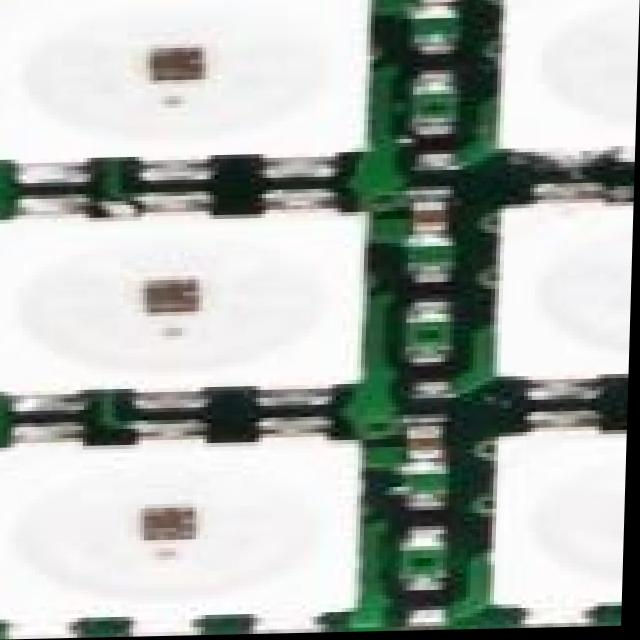LED: (0, 429, 380, 628), (0, 207, 369, 392), (4, 0, 384, 156), (495, 189, 635, 375), (489, 440, 630, 613), (500, 0, 640, 147)
capacitor: (409, 416, 444, 461), (414, 204, 457, 237), (404, 0, 460, 9)
resistor: (396, 112, 481, 169), (406, 36, 471, 85), (397, 574, 456, 617), (404, 276, 459, 321), (407, 352, 452, 401), (411, 498, 456, 541)
